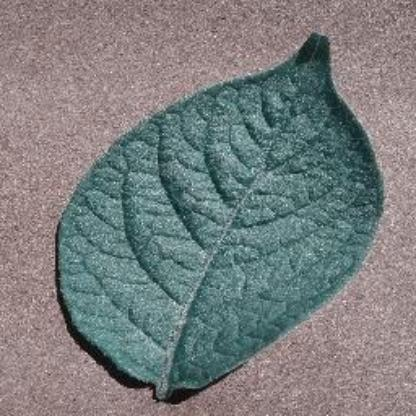Healthy-plant: (43, 16, 397, 406)
